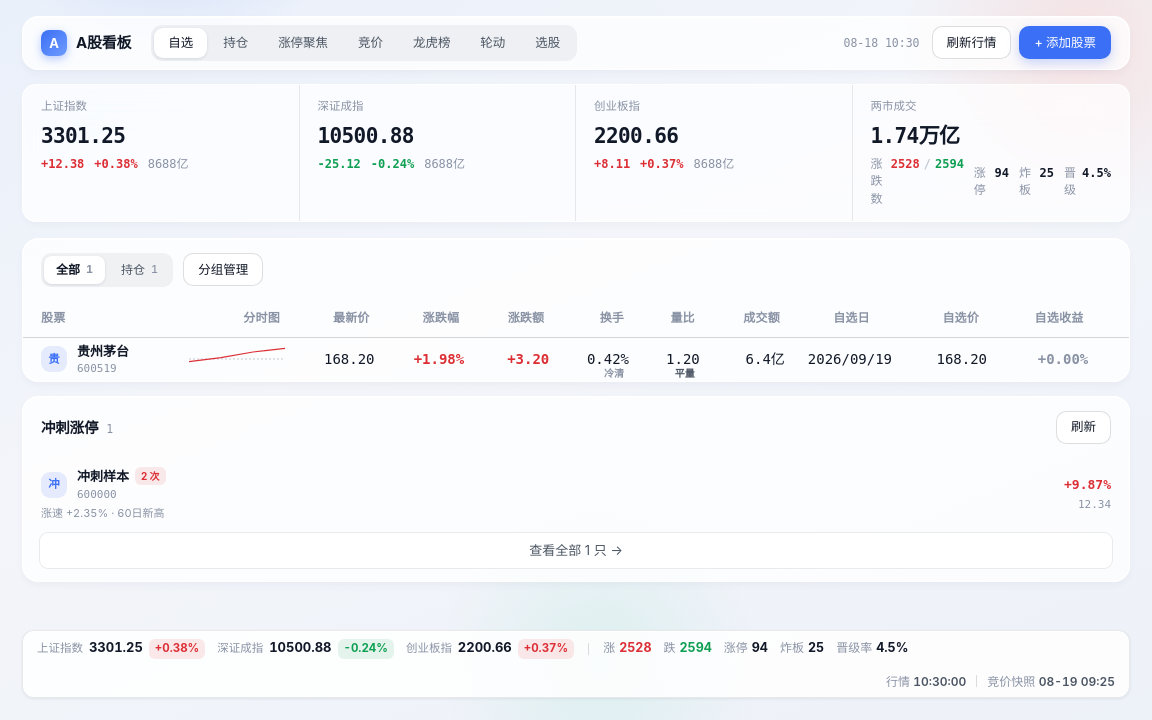
Test: Task 7 app interactions › shows the market overview above the holdings page and places group navigation before the stock list
The image size is (1152, 720).
Expected: the navigation bar named "一级导航" is shown, [151,25,577,61]
Expected: the element named "大盘概览" is shown, [22,84,1130,222]
Click the button named "持仓 1" at (236, 43), box [209,28,262,58]
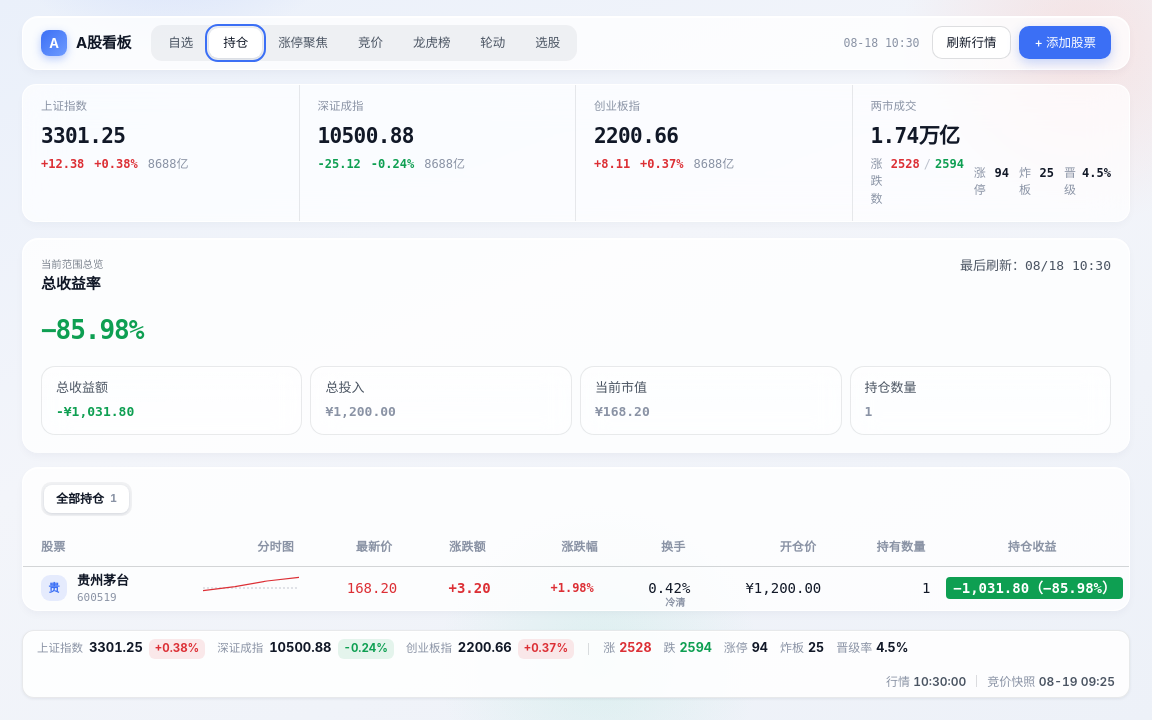
Now the navigation bar named "持仓筛选" is shown, box [41,482,132,516]
